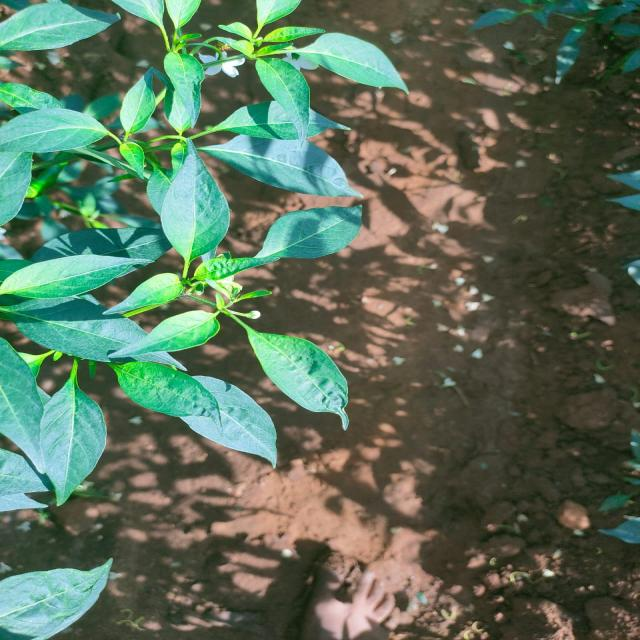Mosaic_virus: (0, 1, 393, 640)
